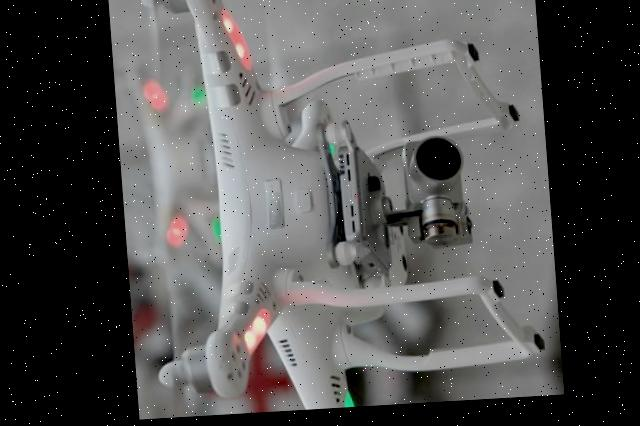drone: (124, 0, 558, 420)
